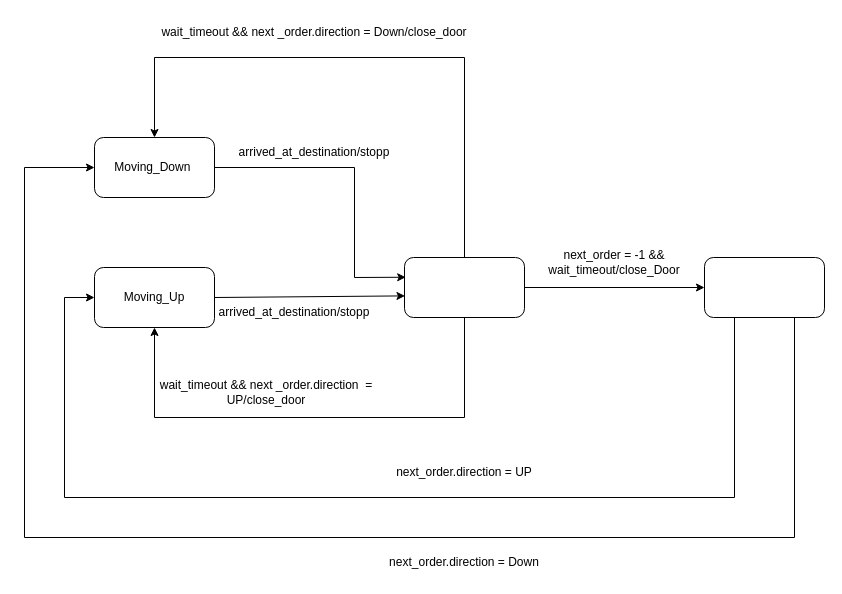
This 842x594 diagram has some shape labels left out. The centre of each missing label's shape, as x and y in pixels:
Idle: pixel 764 287
Open_Door: pixel 464 287
